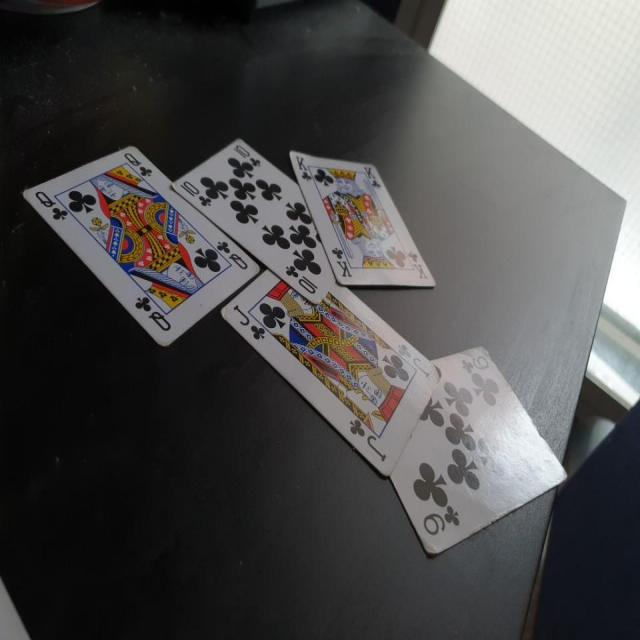10 Trefoils: (170, 135, 335, 304)
9 Trefoils: (390, 342, 571, 559)
J Trefoils: (216, 266, 441, 477)
K Trefoils: (287, 146, 438, 290)
Q Trefoils: (22, 144, 260, 348)
